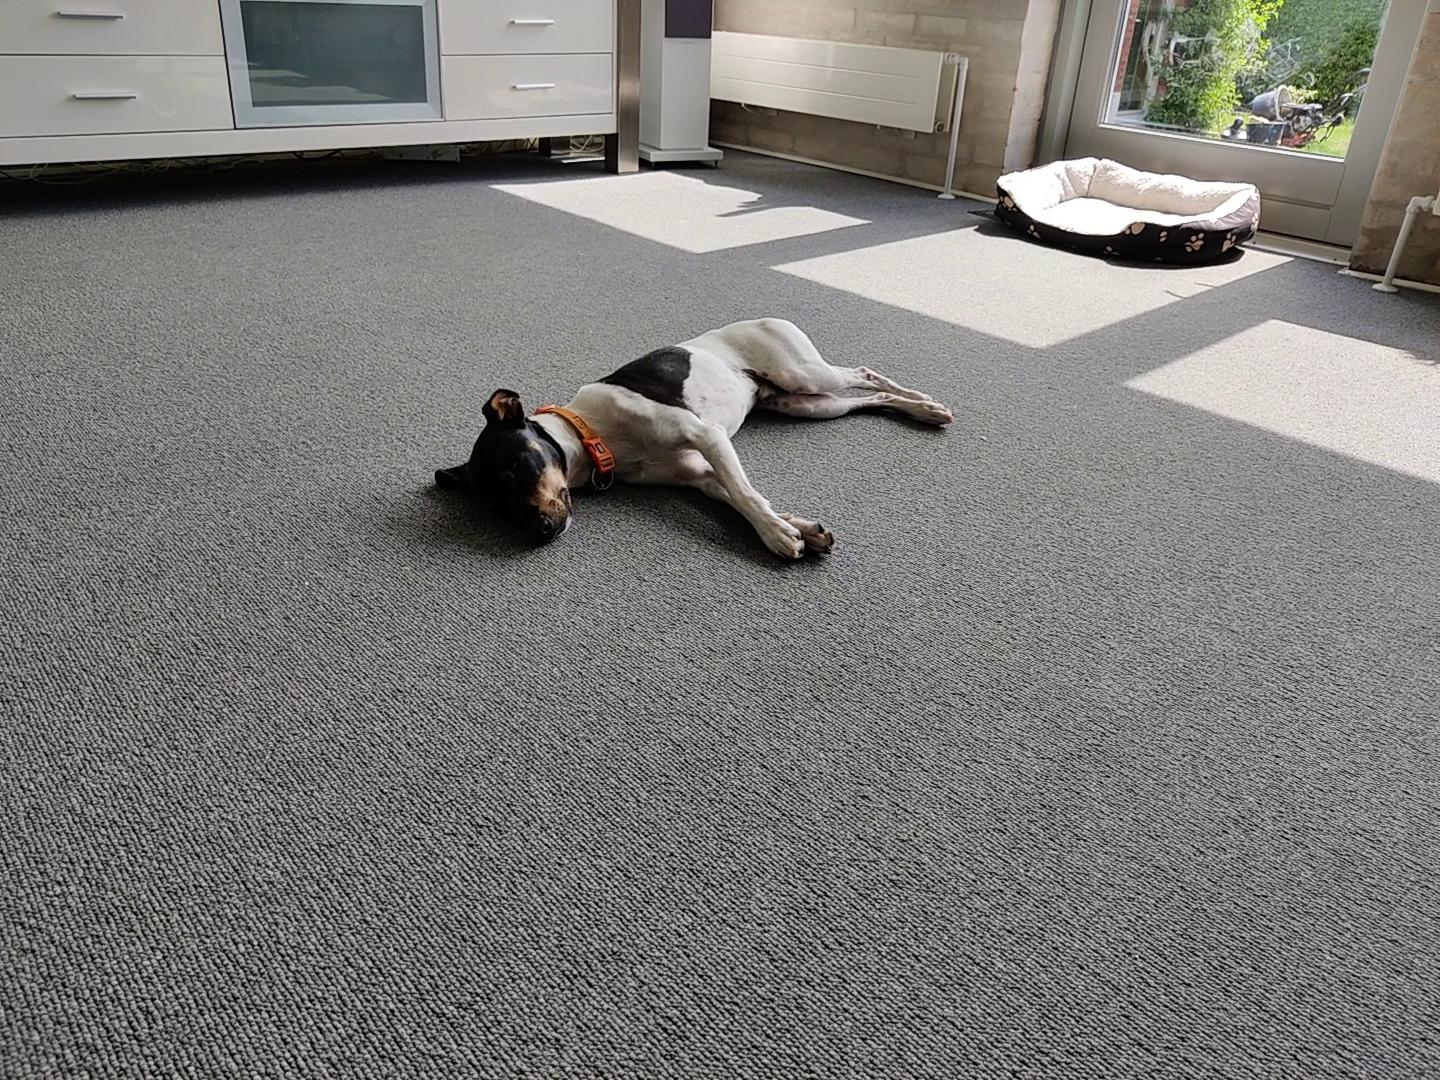Dog: (421, 311, 956, 563)
